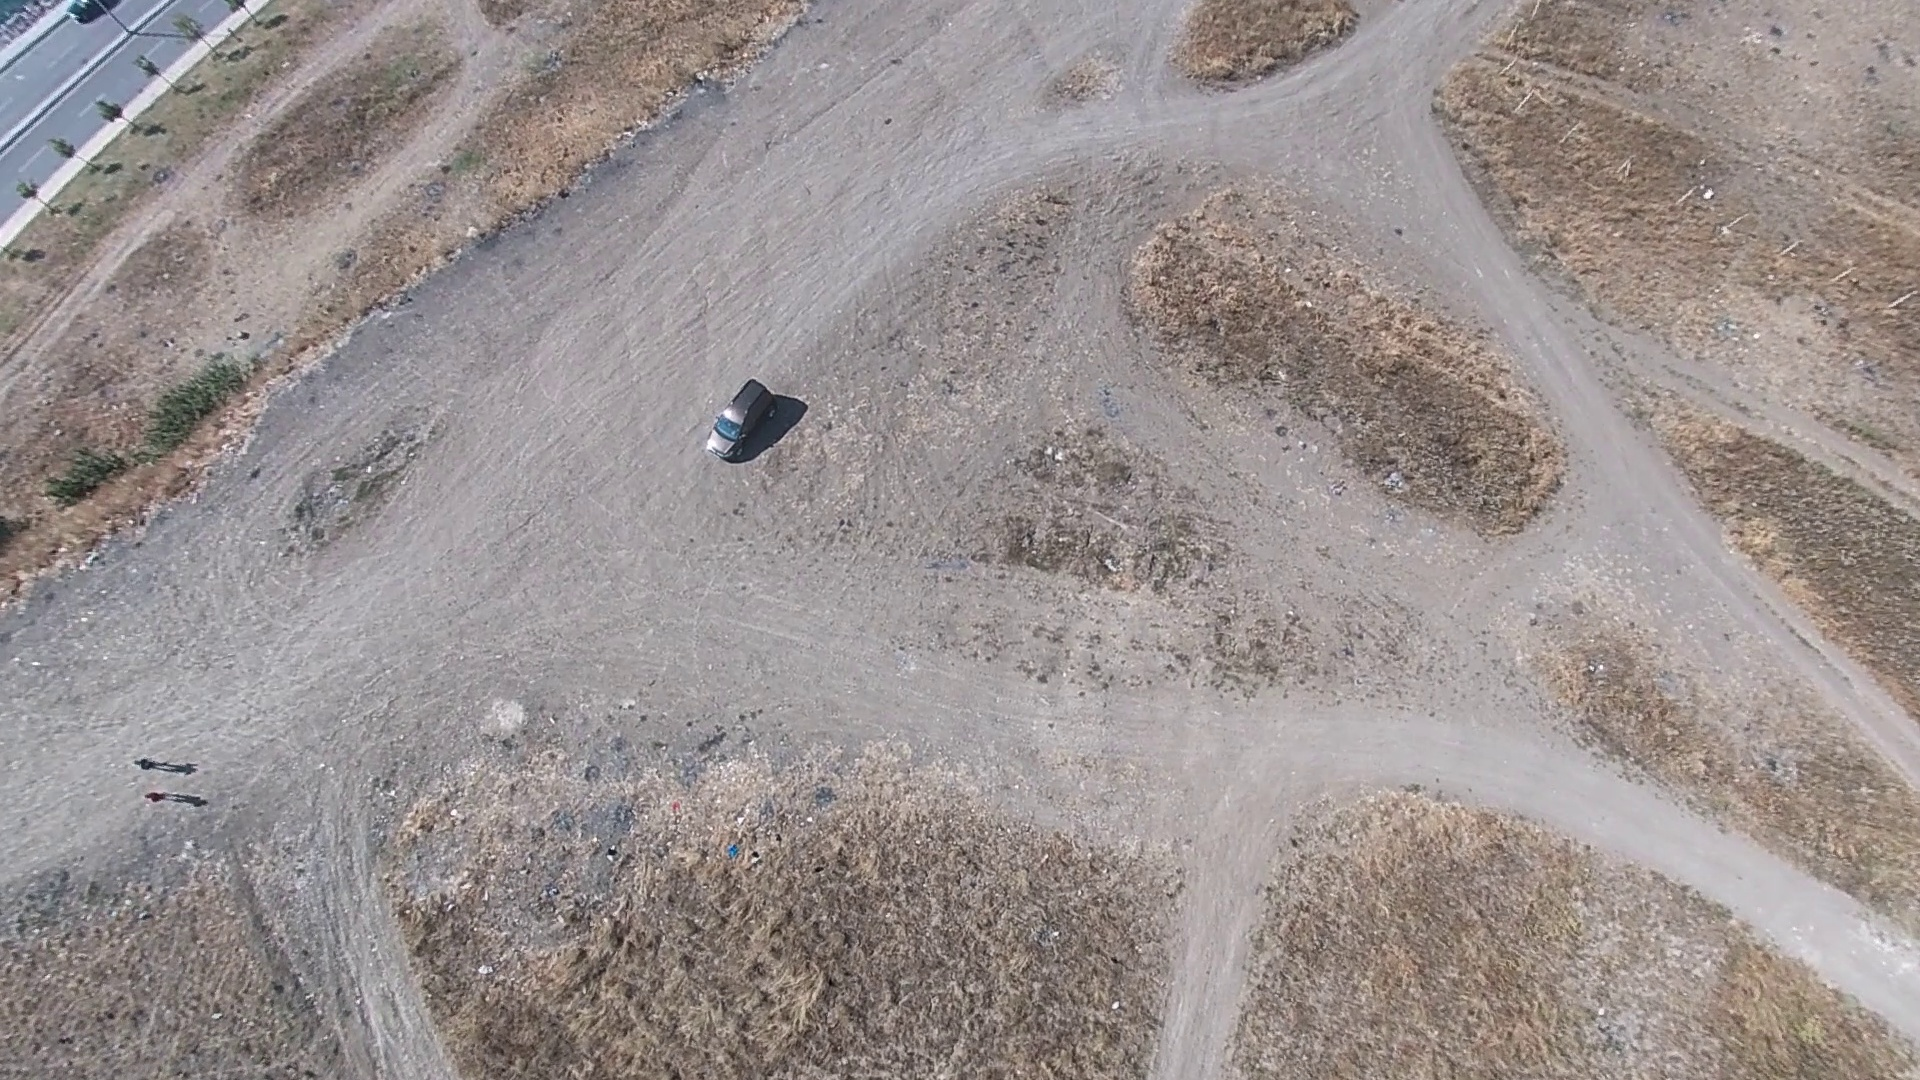araba: (700, 376, 778, 467)
insan: (133, 759, 166, 775), (141, 799, 175, 805)
